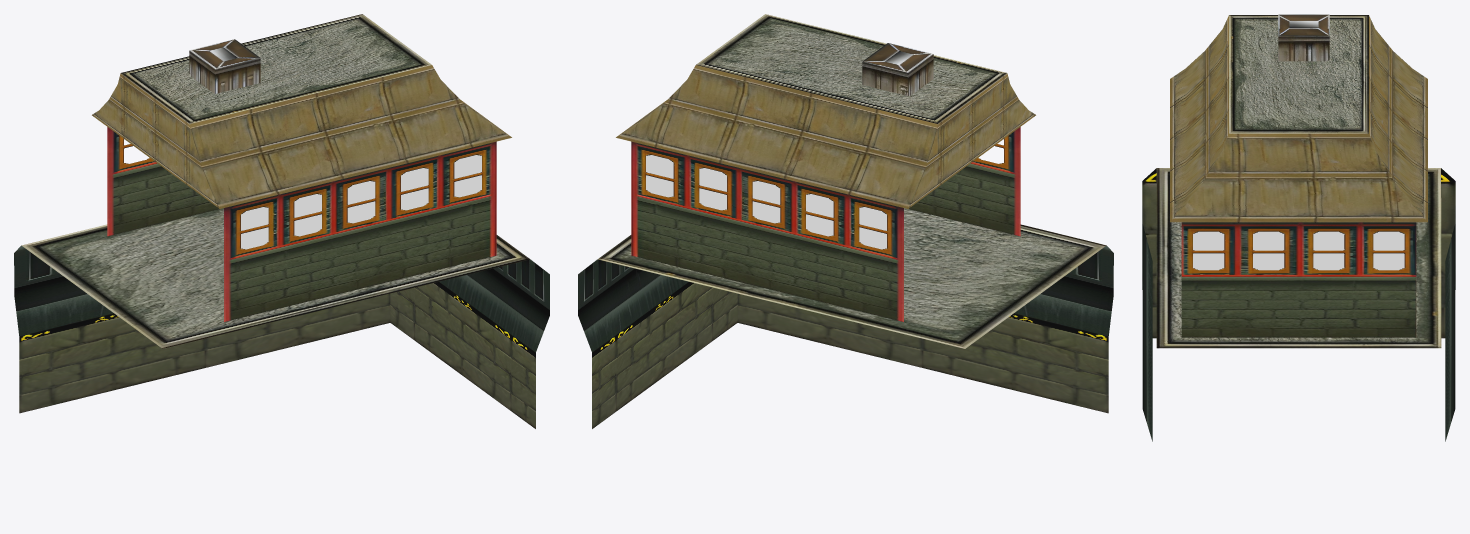
The model's file is l_palacewing_hdtex.glb.
The picture shows the model from 3 angles, left to right: view 1: azimuth 30°, elevation 25°; view 2: azimuth 150°, elevation 25°; view 3: azimuth 270°, elevation 25°; orthographic projection.
Visible parts, largest first — view 1: palace_wing, Litwin_palace_wing; view 2: palace_wing, Litwin_palace_wing; view 3: palace_wing, Litwin_palace_wing.
Part boxes in pixels (x1,y1,x2,y2): palace_wing: (14,14,549,428); Litwin_palace_wing: (241,155,481,249); palace_wing: (578,14,1113,428); Litwin_palace_wing: (646,155,886,249); palace_wing: (1142,14,1455,441); Litwin_palace_wing: (1193,231,1404,270).
Size of the model in its own units: 30.85 by 29.31 by 21.93.
7 materials, 7 textured.
